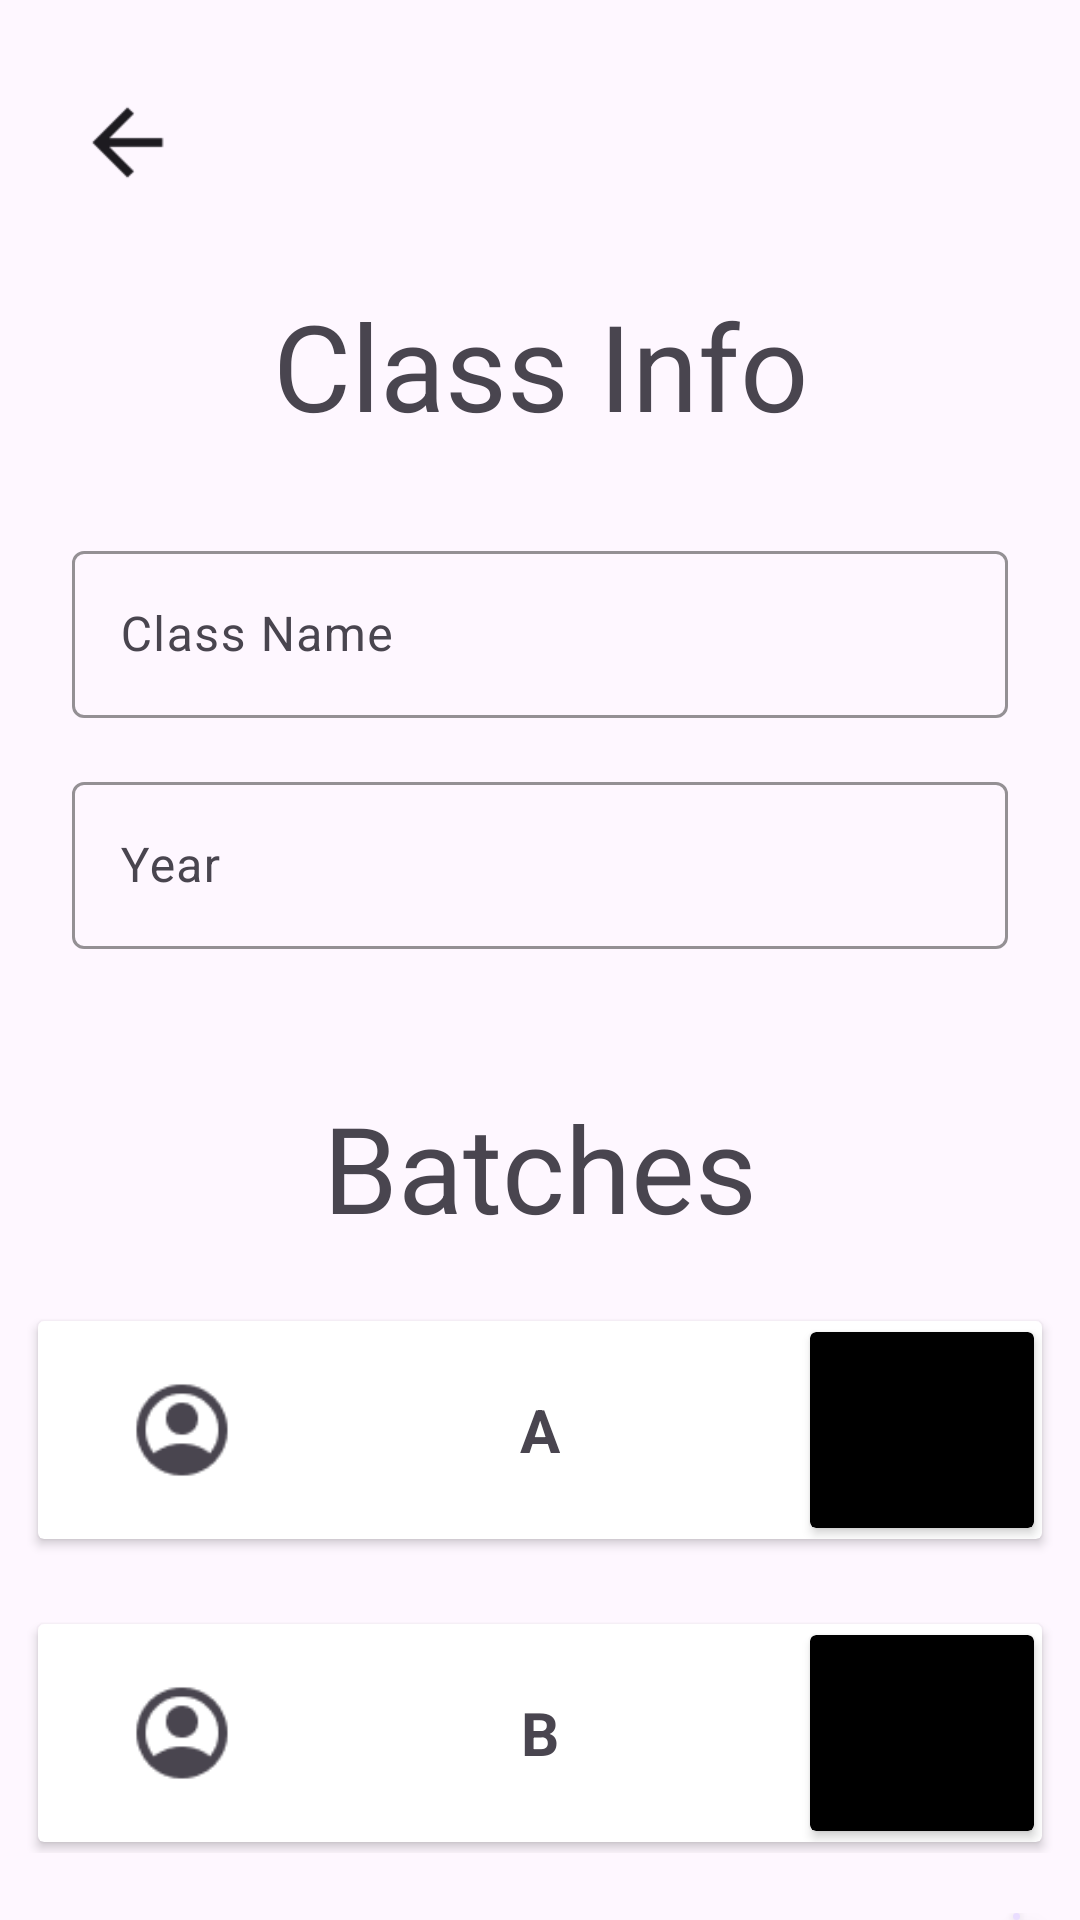

Screen size 1080x1920. Icon name, then its box in pixels as [x1=x1, y1=y1, x2=x2, y2=y2]:
back arrow: [x1=92, y1=107, x2=164, y2=178]
profile: [x1=136, y1=1384, x2=228, y2=1476], [x1=136, y1=1687, x2=228, y2=1779]
